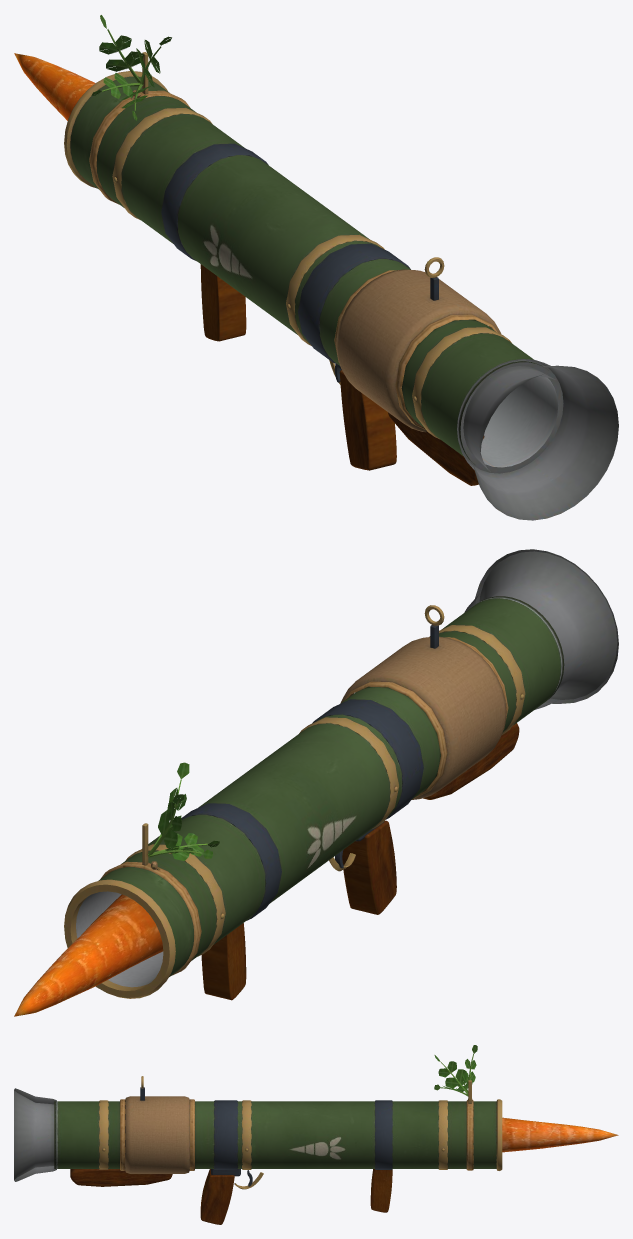
Rendered from carrot_rocket_launcher.glb.
The picture shows the model from 3 angles, top to bottom: view 1: azimuth 30°, elevation 25°; view 2: azimuth 150°, elevation 25°; view 3: azimuth 270°, elevation 25°; orthographic projection. The views are drawn at different scales.
Parts seen in each view (by area): view 1: carrot_rocket_launcher, Rocket; view 2: carrot_rocket_launcher, Rocket; view 3: carrot_rocket_launcher, Rocket.
Boxes of the visible parts, x1,y1,x2,y2 form: carrot_rocket_launcher: [64, 15, 618, 520]; Rocket: [14, 53, 95, 120]; carrot_rocket_launcher: [64, 549, 618, 1000]; Rocket: [14, 894, 163, 1016]; carrot_rocket_launcher: [14, 1045, 502, 1224]; Rocket: [502, 1117, 618, 1152].
Size of the model in its own units: 0.158 by 0.3064 by 1.02.
Materials: 1 (1 with a texture image).
